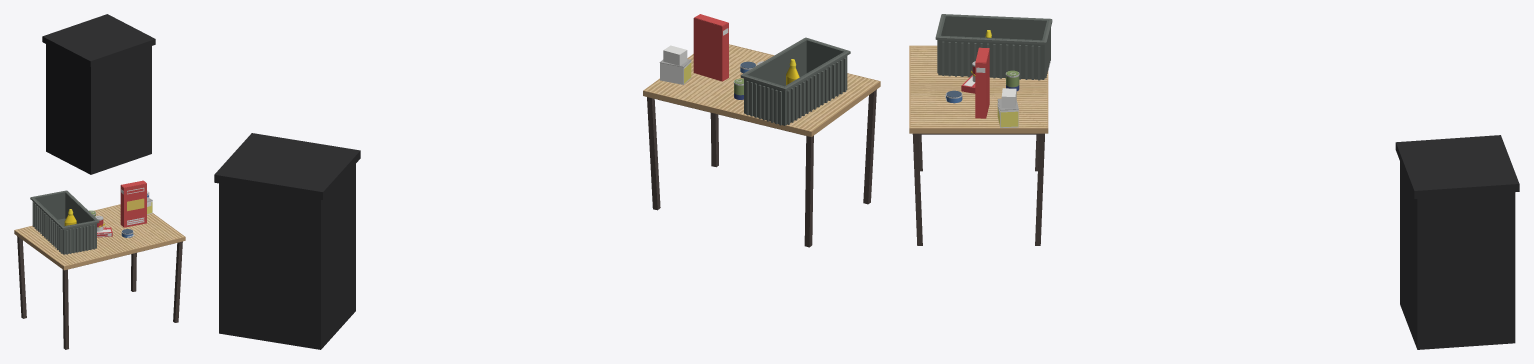
File: viga.glb
3 renders of one model, left to right at view 1: azimuth 30°, elevation 25°; view 2: azimuth 150°, elevation 25°; view 3: azimuth 270°, elevation 25°, orthographic. The views are drawn at different scales.
Parts seen in each view (by area): view 1: BgTrash_body, BgTrash_lid, Table_top, CI_body, Table_edgeF, Bin_wF, Bin_wB, Bin_wR, Table_leg1, Table_leg2, Table_leg0, Bin_wL (+3 smaller); view 2: BgTrash_body, BgTrash_lid, Table_top, CI_body, Bin_wR, Bin_wL, Table_edgeB, Table_leg3, Table_leg0, Table_leg2, Bin_wB, Bin_wF; view 3: BgTrash_body, BgTrash_lid, Table_top, Bin_wR, Bin_wL, CI_body, Table_edgeR, Table_leg1, Table_leg3.
Boxes of the visible parts, <box> form: BgTrash_body: <box>46,44,151,174</box>; BgTrash_lid: <box>42,14,155,66</box>; Table_top: <box>15,204,184,265</box>; CI_body: <box>120,183,146,227</box>; Table_edgeF: <box>64,236,185,270</box>; Bin_wF: <box>64,220,95,252</box>; Bin_wB: <box>34,191,65,219</box>; Bin_wR: <box>65,191,96,246</box>; Table_leg1: <box>173,241,182,322</box>; Table_leg2: <box>17,236,26,318</box>; Table_leg0: <box>62,269,68,349</box>; Bin_wL: <box>32,197,65,252</box>; BgTrash_body: <box>219,164,355,349</box>; BgTrash_lid: <box>214,133,360,199</box>; Table_top: <box>644,44,879,131</box>; CI_body: <box>693,18,728,81</box>; Bin_wR: <box>744,39,807,113</box>; Bin_wL: <box>783,51,847,123</box>; Table_edgeB: <box>643,90,811,136</box>; Table_leg3: <box>647,97,660,210</box>; Table_leg0: <box>863,89,876,204</box>; Table_leg2: <box>804,135,813,247</box>; Bin_wB: <box>746,75,783,122</box>; Bin_wF: <box>806,39,844,72</box>; BgTrash_body: <box>1400,162,1515,349</box>; BgTrash_lid: <box>1395,135,1519,198</box>; Table_top: <box>910,46,1047,127</box>; Bin_wR: <box>938,35,1044,78</box>; Bin_wL: <box>943,15,1049,40</box>; CI_body: <box>975,48,989,118</box>; Table_edgeR: <box>910,128,1047,133</box>; Table_leg1: <box>912,133,922,245</box>; Table_leg3: <box>1035,133,1044,245</box>.
Size of what is drawn, in the model's own units: 2.48 by 1.1 by 3.44.
Materials: 22 (1 with a texture image).
